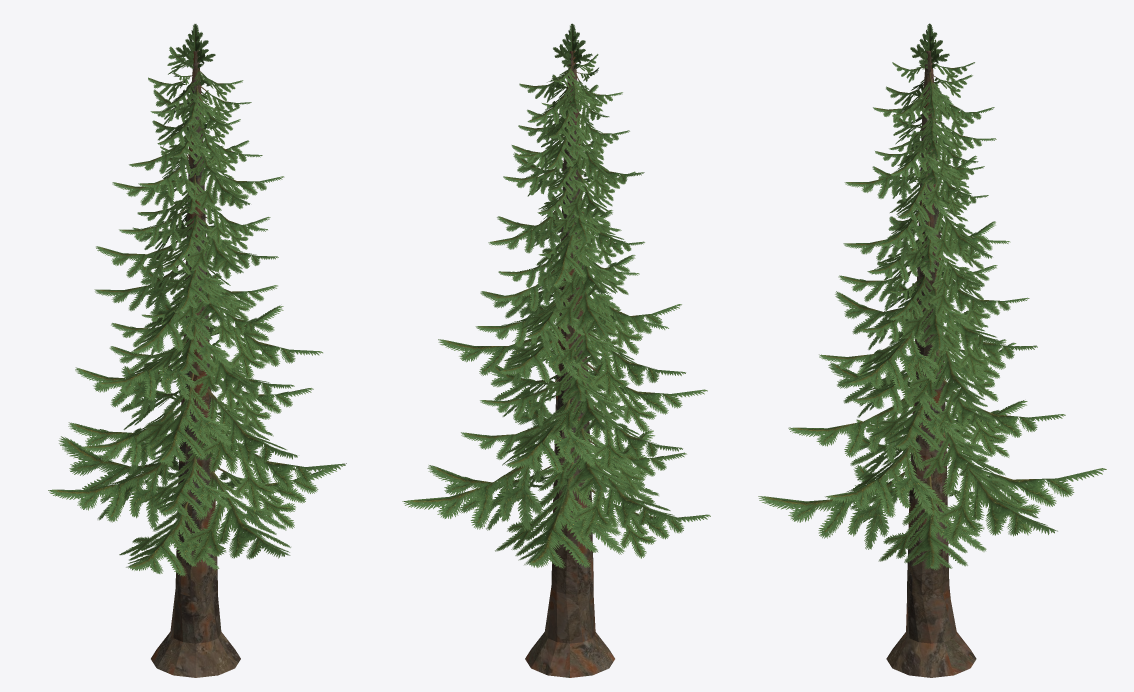
The model's file is pineTree.fbx.
3 renders of one model, left to right at view 1: azimuth 30°, elevation 25°; view 2: azimuth 150°, elevation 25°; view 3: azimuth 270°, elevation 25°, orthographic.
Parts seen in each view (by area): view 1: pineTree; view 2: pineTree; view 3: pineTree.
Part boxes in pixels (left/top/right/bottom): pineTree: left=48, top=24, right=346, bottom=677; pineTree: left=402, top=23, right=710, bottom=677; pineTree: left=758, top=23, right=1106, bottom=677.
Size of the model in its own units: 646 by 1374 by 715.
Materials: 2 (2 with a texture image).
